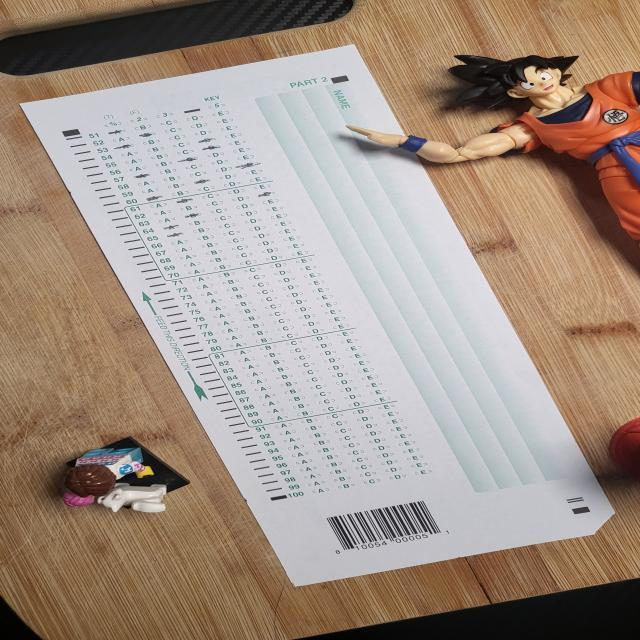scantron_back: (16, 45, 616, 587)
